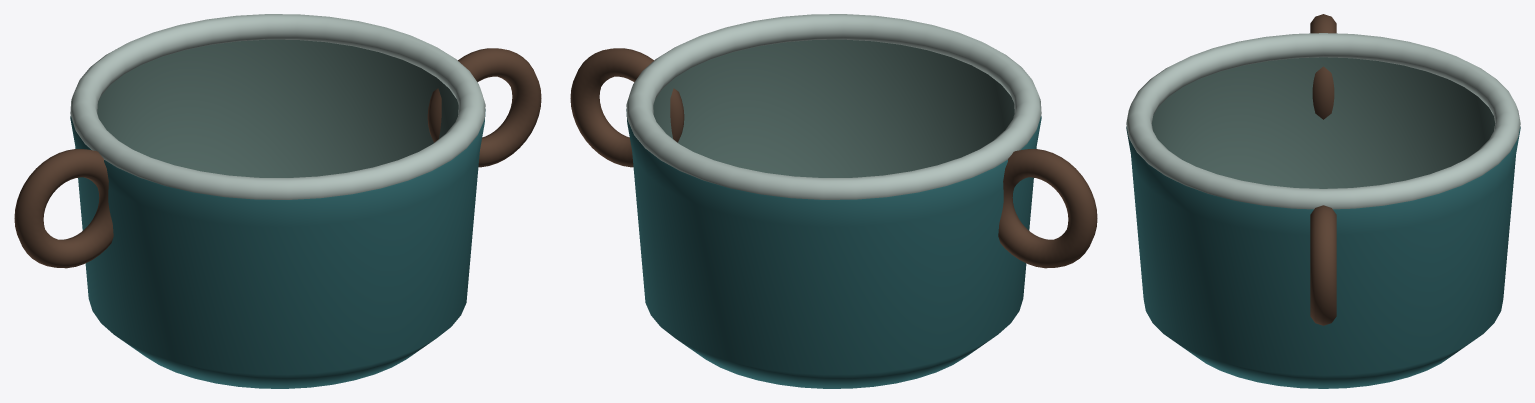
The model's file is pot-empty.obj.
3 views of the same model, side by side, from view 1: azimuth 30°, elevation 25°; view 2: azimuth 150°, elevation 25°; view 3: azimuth 270°, elevation 25° (orthographic). The views are drawn at different scales.
Visible parts, largest first — view 1: pot-empty_teal, pot-empty_darkMetal, pot-empty_metal, pot-empty_cocoa; view 2: pot-empty_teal, pot-empty_darkMetal, pot-empty_metal, pot-empty_cocoa; view 3: pot-empty_teal, pot-empty_darkMetal, pot-empty_metal, pot-empty_cocoa.
Part boxes in pixels (x1,y1,x2,y2): pot-empty_teal: [70, 109, 485, 388]; pot-empty_darkMetal: [97, 39, 458, 177]; pot-empty_metal: [70, 14, 485, 199]; pot-empty_cocoa: [14, 48, 541, 268]; pot-empty_teal: [626, 109, 1041, 388]; pot-empty_darkMetal: [653, 39, 1014, 177]; pot-empty_metal: [626, 14, 1041, 199]; pot-empty_cocoa: [570, 48, 1097, 268]; pot-empty_teal: [1126, 126, 1520, 388]; pot-empty_darkMetal: [1151, 57, 1495, 188]; pot-empty_metal: [1126, 33, 1520, 209]; pot-empty_cocoa: [1310, 14, 1336, 325].
Size of the model in its own units: 0.494 by 0.2045 by 0.34.
